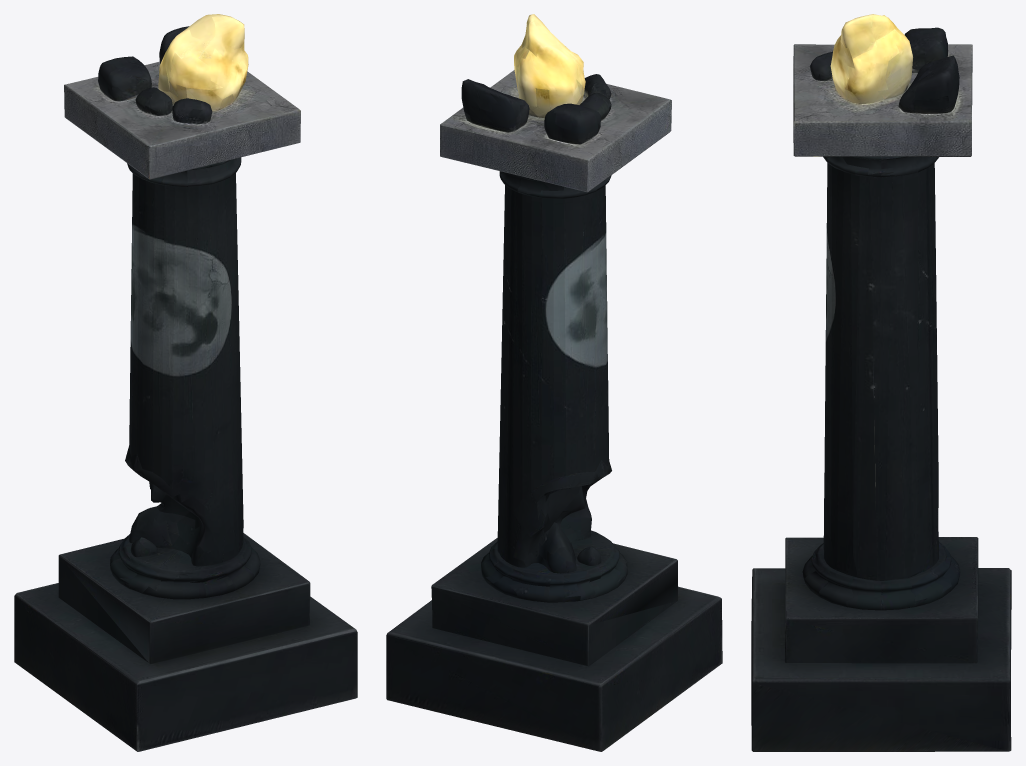
Rendered from city-pillar.glb.
The picture shows the model from 3 angles, left to right: view 1: azimuth 30°, elevation 25°; view 2: azimuth 150°, elevation 25°; view 3: azimuth 270°, elevation 25°; orthographic projection. The views are drawn at different scales.
Bounding box in the file's own units: 0.3499 × 1 × 0.3404.
Materials: 1 (1 with a texture image).
